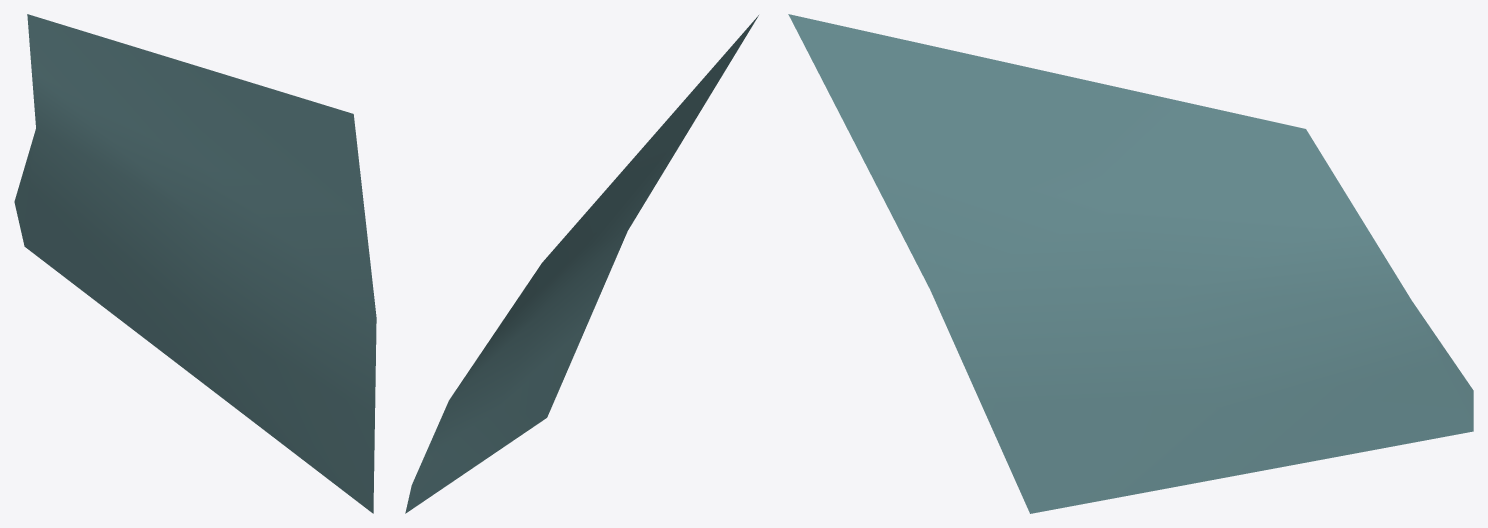
Rendered from Electric_1_Window_Tessellate_RL.fbx.
3 views of the same model, side by side, from view 1: azimuth 30°, elevation 25°; view 2: azimuth 150°, elevation 25°; view 3: azimuth 270°, elevation 25° (orthographic). The views are drawn at different scales.
Visible parts, largest first — view 1: Electric_1_Window_Tessellate_RL; view 2: Electric_1_Window_Tessellate_RL; view 3: Electric_1_Window_Tessellate_RL.
Part boxes in pixels (left/top/right/bottom): Electric_1_Window_Tessellate_RL: left=14, top=14, right=376, bottom=513; Electric_1_Window_Tessellate_RL: left=405, top=15, right=758, bottom=513; Electric_1_Window_Tessellate_RL: left=788, top=14, right=1473, bottom=513.
Bounding box in the file's own units: 7.59 × 23.07 × 33.07.
